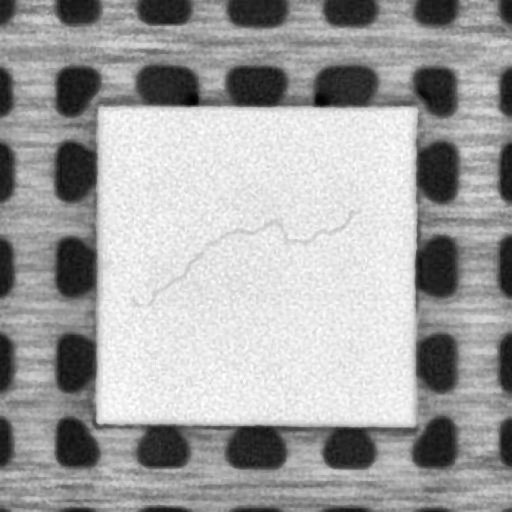DIE_CRACK: (129, 208, 367, 313)
